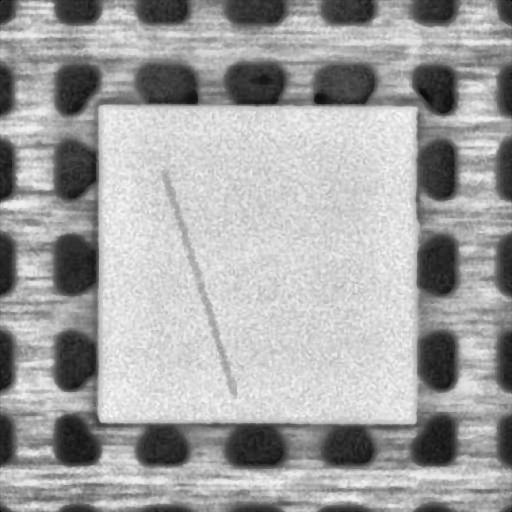DIE_CRACK: (164, 172, 234, 396)
